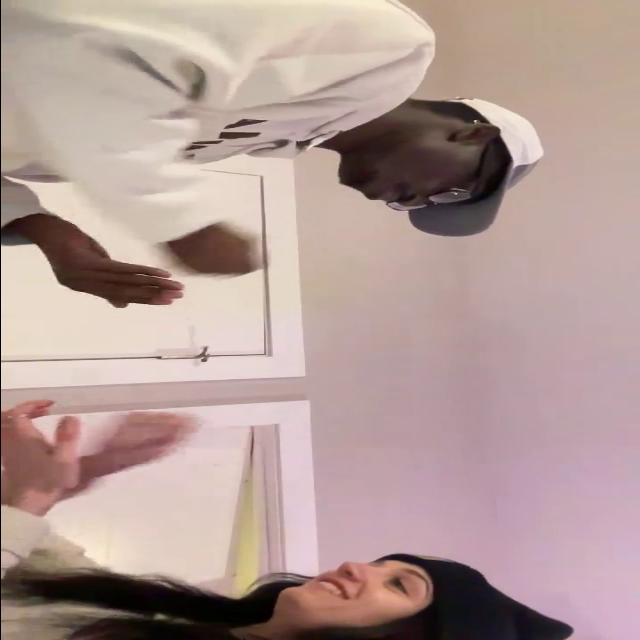Rock: (88, 414, 198, 464), (158, 229, 271, 277)
